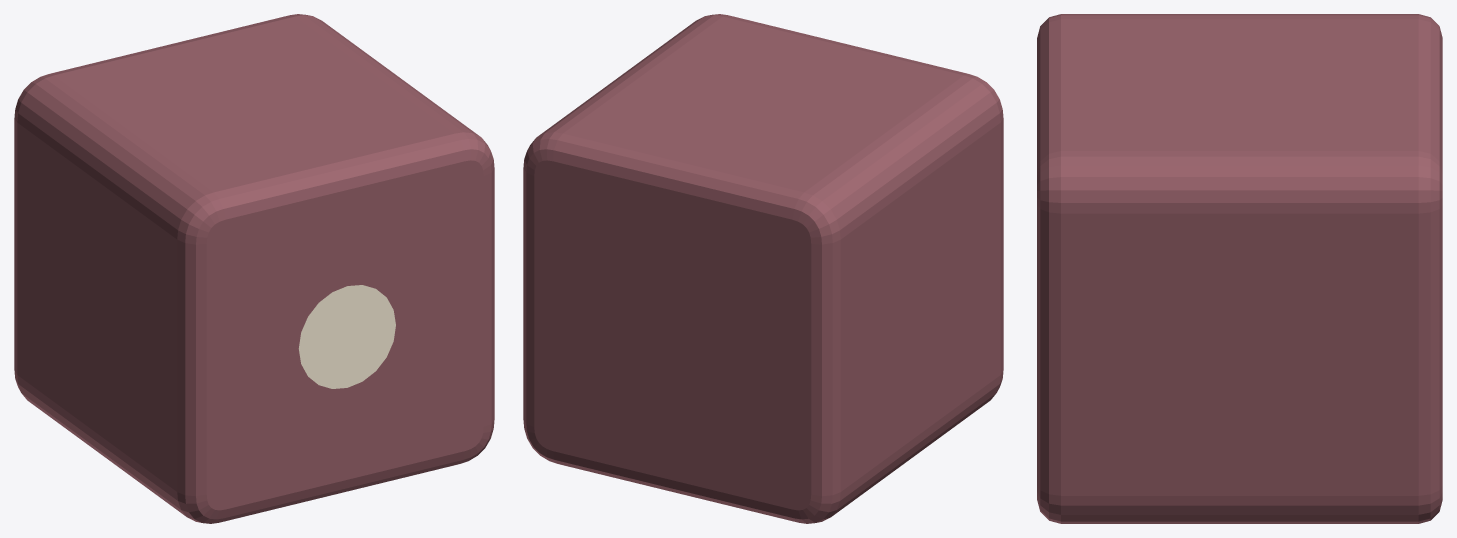
The model's file is budget-marker-2.glb.
3 renders of one model, left to right at view 1: azimuth 30°, elevation 25°; view 2: azimuth 150°, elevation 25°; view 3: azimuth 270°, elevation 25°, orthographic. The views are drawn at different scales.
Visible parts, largest first — view 1: budget-marker-2; view 2: budget-marker-2; view 3: budget-marker-2.
Boxes of the visible parts, x1,y1,x2,y2 form: budget-marker-2: (14,14,494,523); budget-marker-2: (523,14,1003,523); budget-marker-2: (1037,14,1442,523).
Bounding box in the file's own units: 0.008 × 0.008 × 0.0081.
